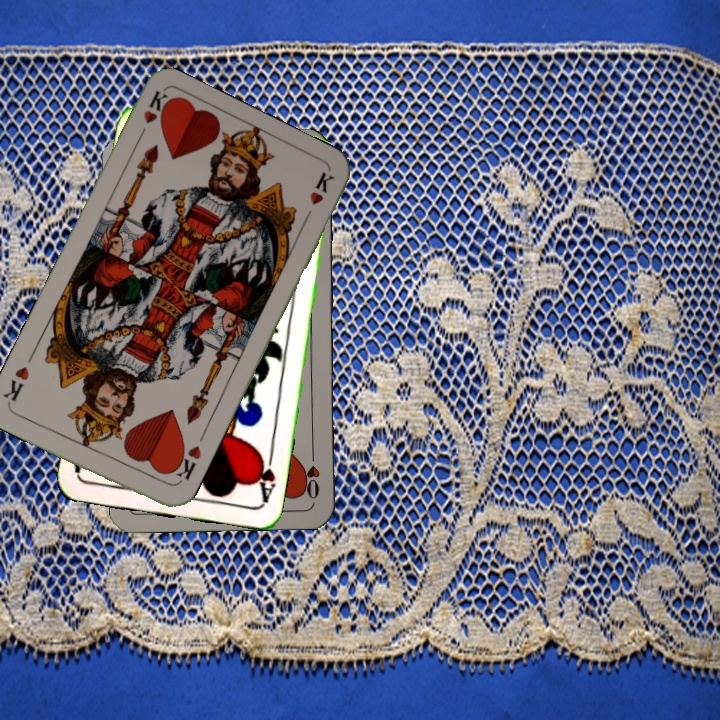HA: (250, 447, 278, 506)
HK: (133, 87, 174, 144), (166, 441, 204, 488)
HO: (301, 444, 323, 502)
